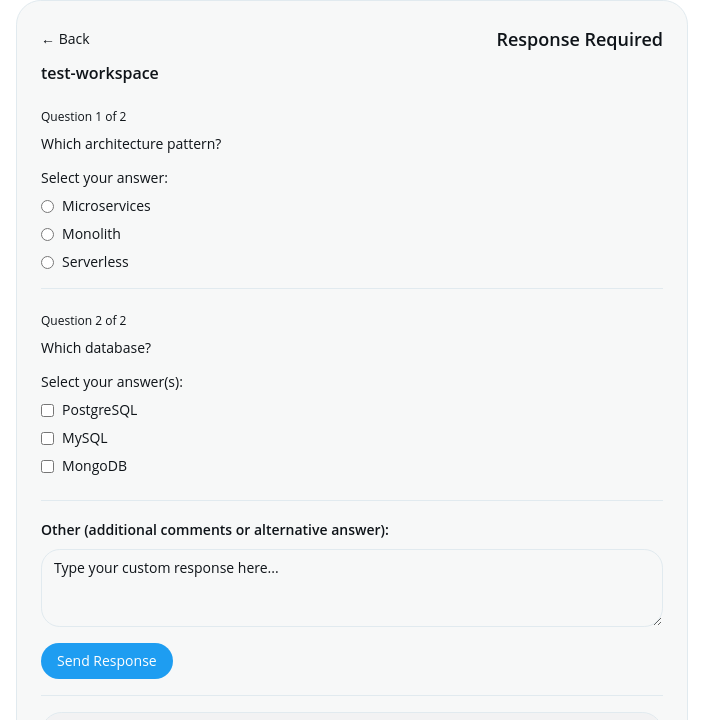
it: ResponseMultiChoice › navigate through phases › shows sending state during submission
Click the button "Send Response": (107, 660) [41,642,173,678]
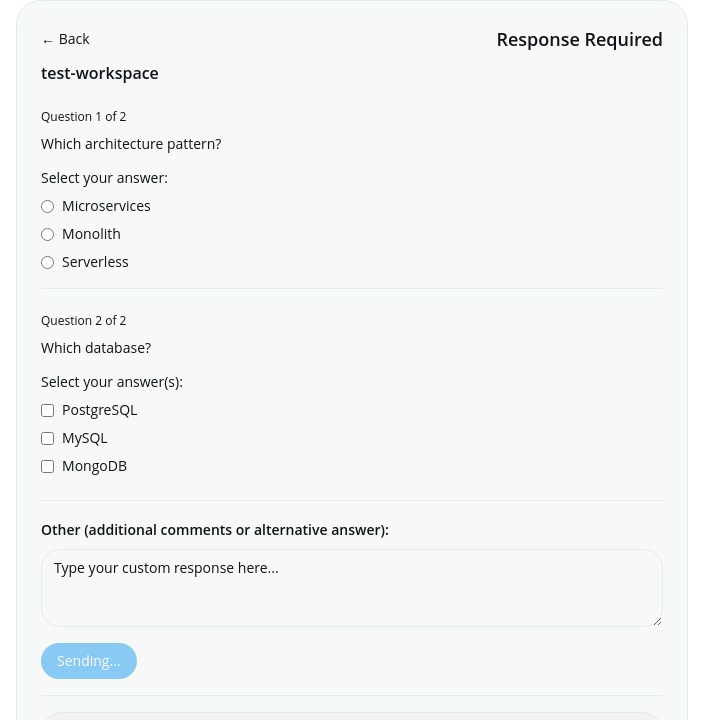
Now the button "Sending..." is shown, box [41,642,137,678]
